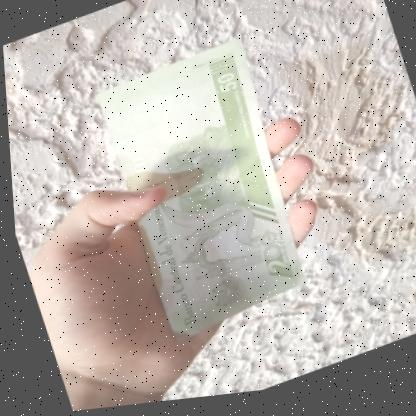fifty-back-vef: (88, 36, 320, 354)
